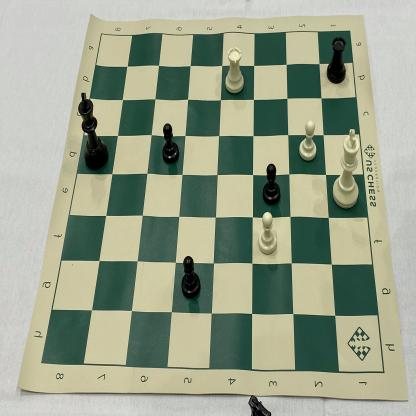bishop: (323, 32, 351, 90)
black-king: (75, 88, 112, 175)
black-pawn: (176, 251, 206, 305), (157, 116, 185, 169), (260, 157, 286, 209)
white-king: (326, 123, 364, 214)
white-pawn: (254, 209, 282, 260), (296, 116, 322, 164)
white-rook: (221, 43, 249, 102)
